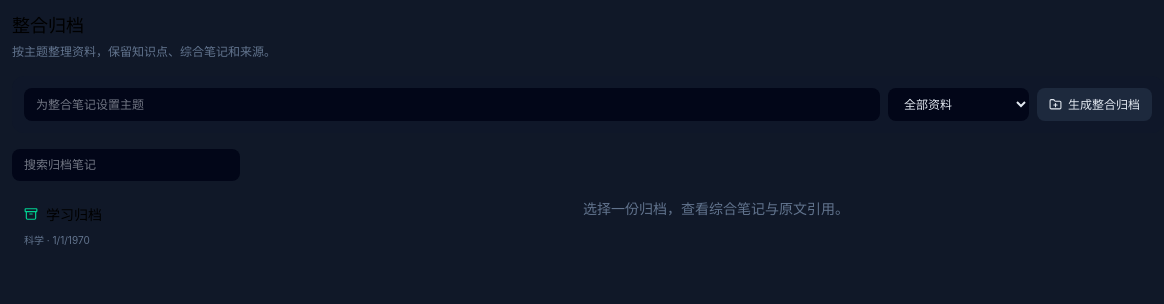
Test: reads saved notes, exposes revision status and exports the saved archive
Click the button "学习归档 科学 · 1/1/1970". click: (126, 226)
box: [12,193,240,260]
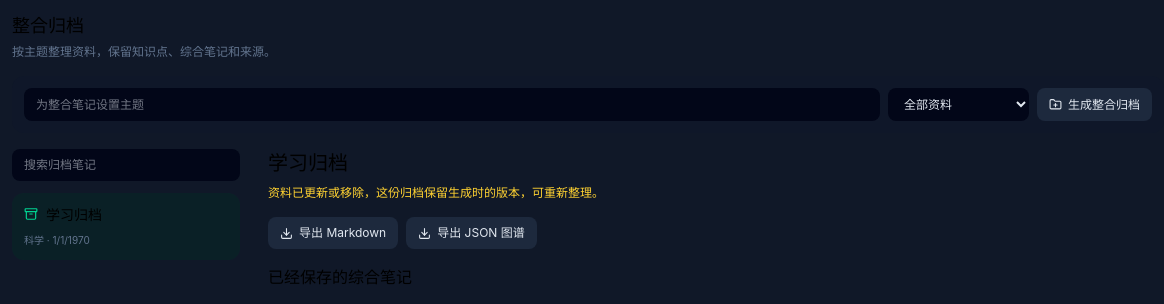
Result: the text "已经保存的综合笔记" is shown at [268,267,412,287]
Result: the text "资料已更新或移除，这份归档保留生成时的版本，可重新整理。" is shown at [268,185,604,200]
